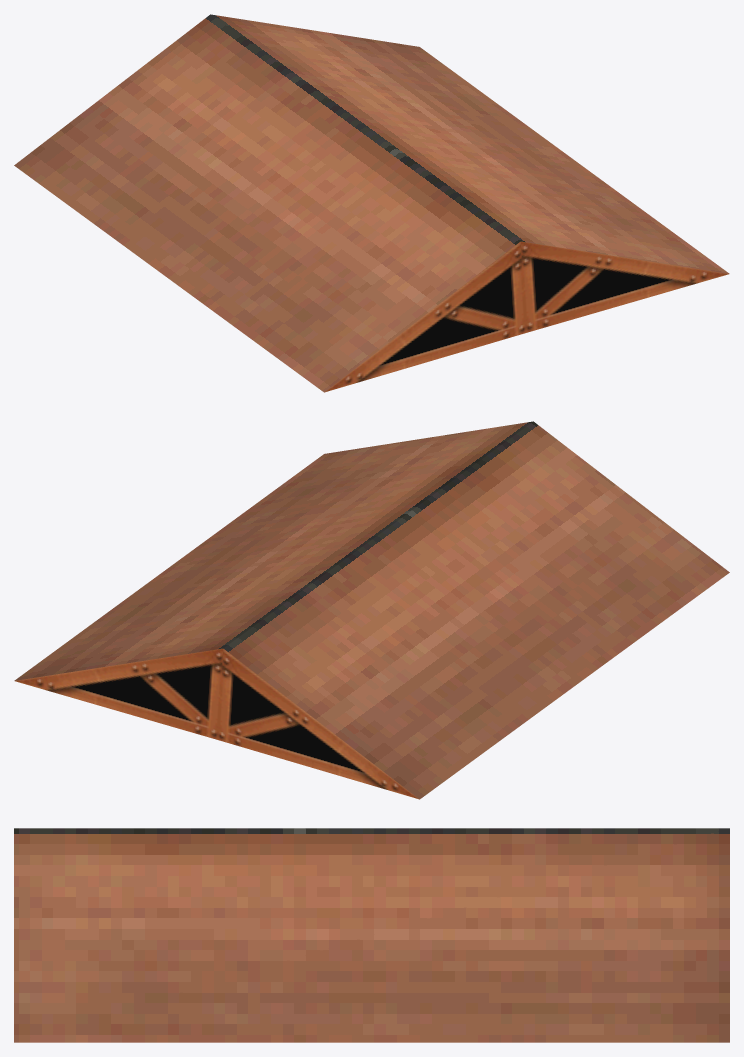
Rendered from truss03.glb.
3 renders of one model, top to bottom at view 1: azimuth 30°, elevation 25°; view 2: azimuth 150°, elevation 25°; view 3: azimuth 270°, elevation 25°, orthographic. The views are drawn at different scales.
Visible parts, largest first — view 1: truss03; view 2: truss03; view 3: truss03.
Part boxes in pixels (bbox=[...]): truss03: bbox=[14, 14, 729, 392]; truss03: bbox=[14, 421, 729, 799]; truss03: bbox=[14, 828, 729, 1042].
Bounding box in the file's own units: 992 × 241 × 1314.
Materials: 2 (2 with a texture image).
